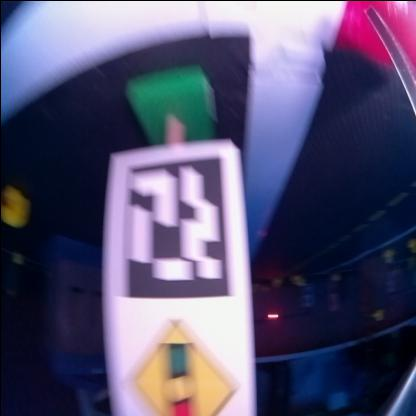Duckie: (1, 189, 29, 227)
QR code: (114, 152, 233, 302)
Signal sign: (121, 312, 240, 415)
